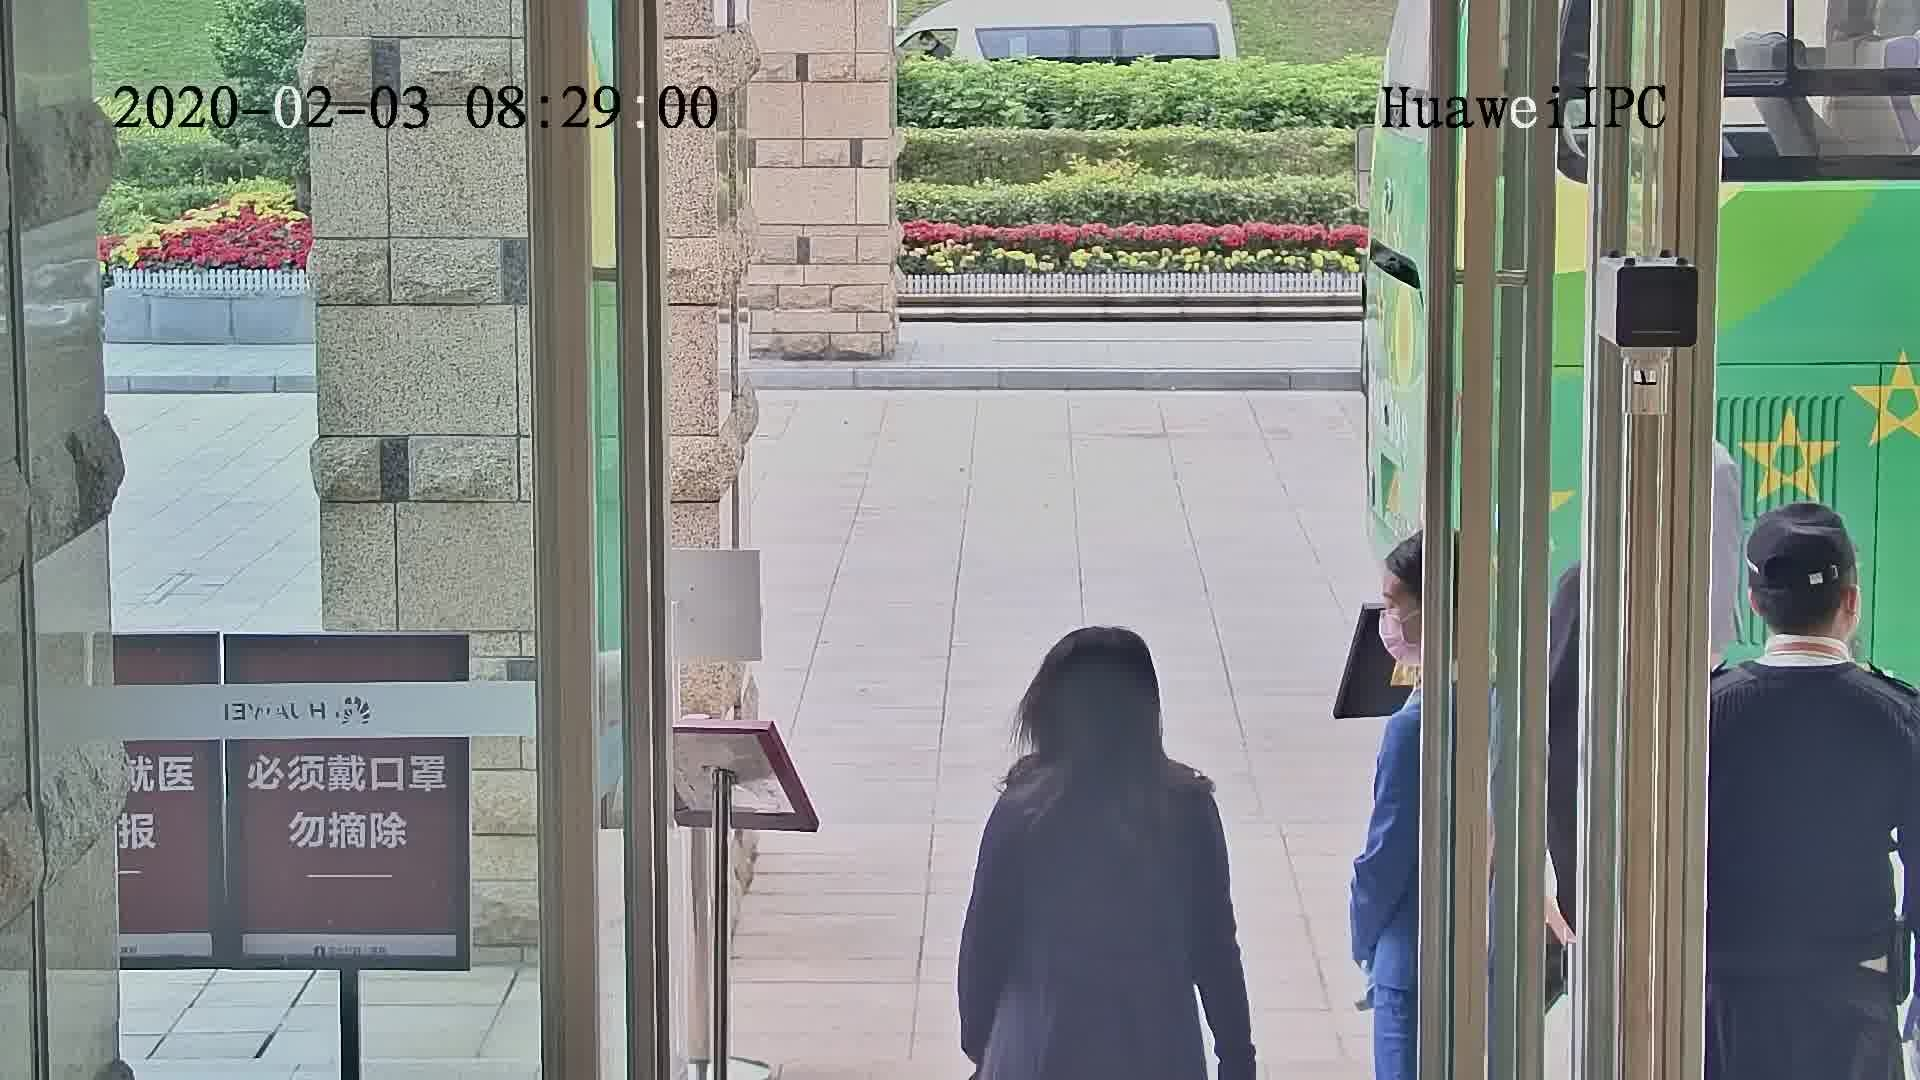face: (1374, 573, 1425, 660)
mask: (1383, 611, 1414, 666)
person: (1709, 498, 1912, 780), (992, 624, 1224, 849), (1361, 526, 1428, 764)
